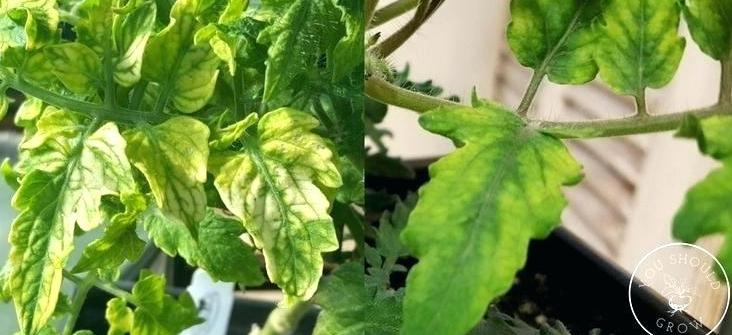Tomato leaf yellow virus: (384, 88, 593, 335), (0, 106, 140, 335), (217, 110, 339, 310), (120, 120, 231, 259), (506, 0, 643, 103), (49, 0, 154, 106), (148, 0, 230, 131), (595, 0, 682, 101), (102, 276, 210, 335)
